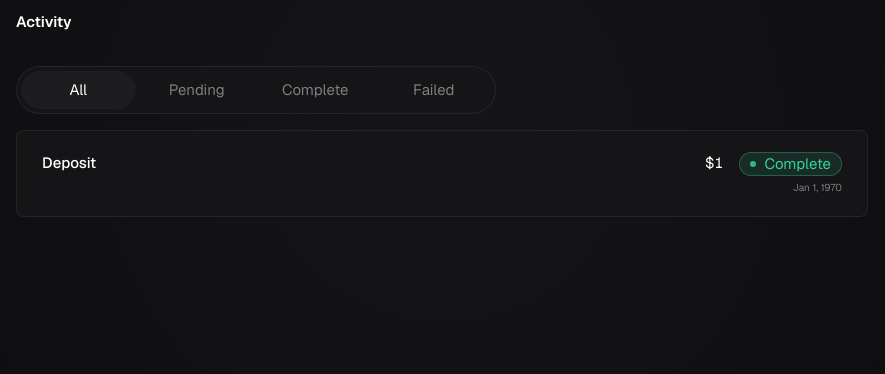
Test case: <History> › shows the filtered-empty copy when a filter has no matches
The width and height of the screenshot is (885, 374).
Click the tab "Failed": [434, 90] box [376,70,491,109]
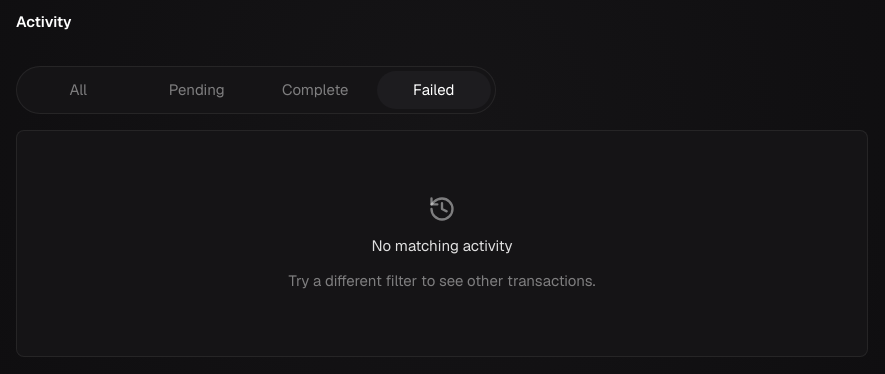
Check: the text "Try a different filter to see other transactions." is shown, box [288,270,596,292]
